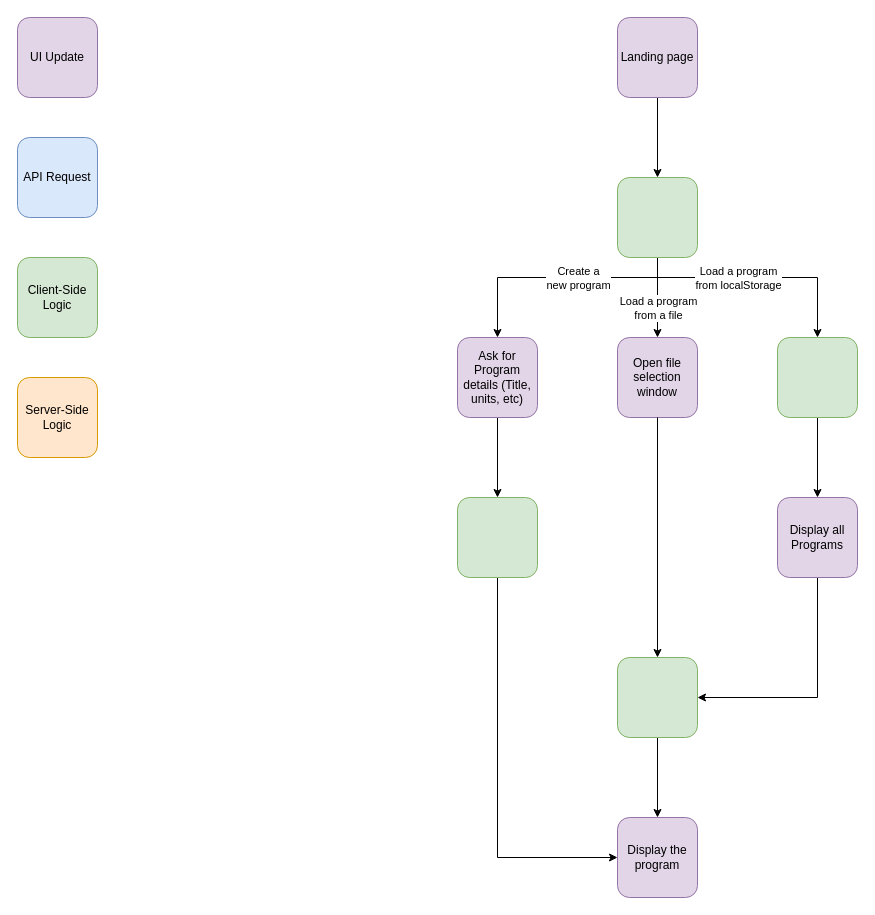
This 875x915 diagram has some shape labels left out. The shapes that lost their labels are listed below. From the top down, each one's centre as x and y in pixels, then its label:
[657,217]: User Selects one of the following options
[817,377]: Load all (if any) Programs in localStorage
[497,537]: Create empty Program with those details
[657,697]: Load selected file
